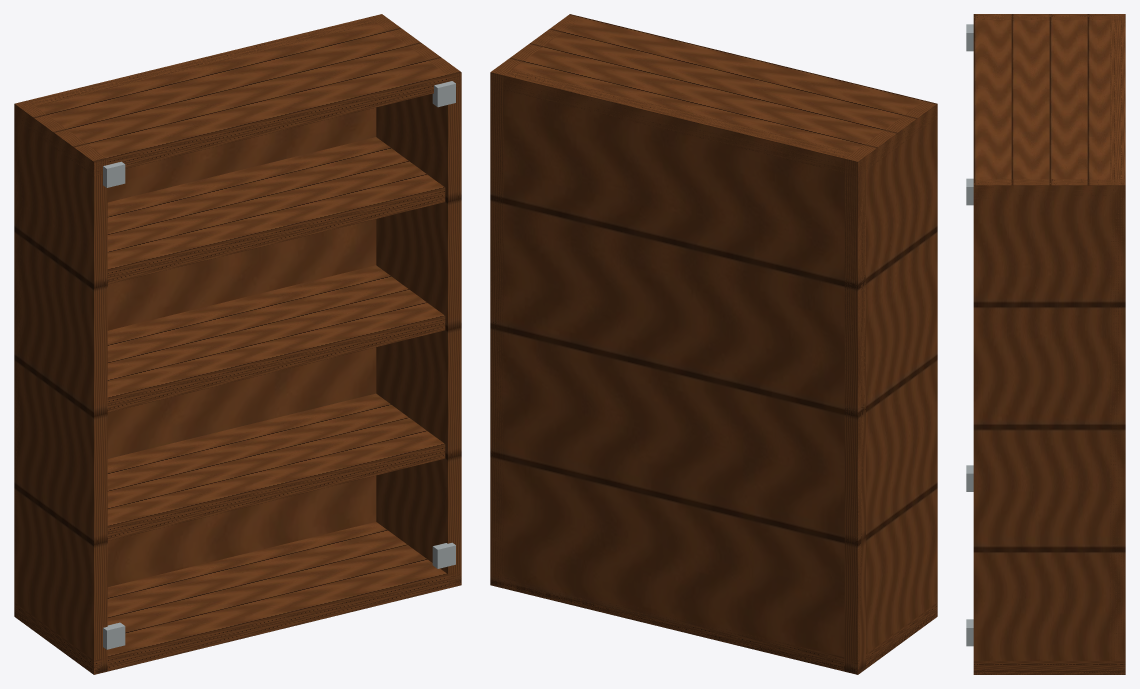
File: roadside-survival-stops-convenience-stock-rack-2158b594__23563.glb
3 renders of one model, left to right at view 1: azimuth 30°, elevation 25°; view 2: azimuth 150°, elevation 25°; view 3: azimuth 270°, elevation 25°, orthographic. The views are drawn at different scales.
Parts seen in each view (by area): view 1: convenience-stock-rack; view 2: convenience-stock-rack; view 3: convenience-stock-rack.
Part boxes in pixels (<box>): convenience-stock-rack: <box>14,14,461,674</box>; convenience-stock-rack: <box>490,14,937,674</box>; convenience-stock-rack: <box>966,14,1125,674</box>.
Bounding box in the file's own units: 1.2 × 1.6 × 0.471.
2 materials, 1 textured.
